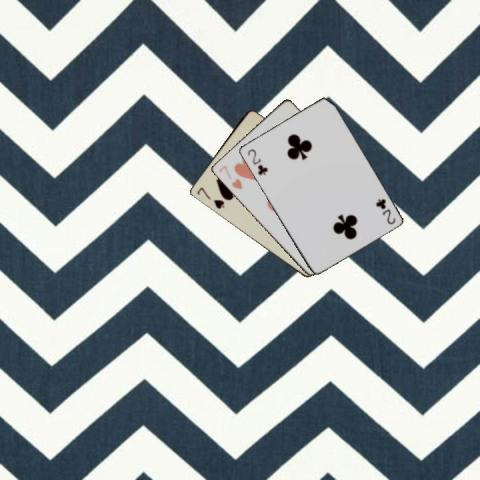2c: (244, 146, 269, 177), (372, 195, 396, 226)
7h: (216, 163, 243, 191)
7s: (194, 184, 226, 211)
